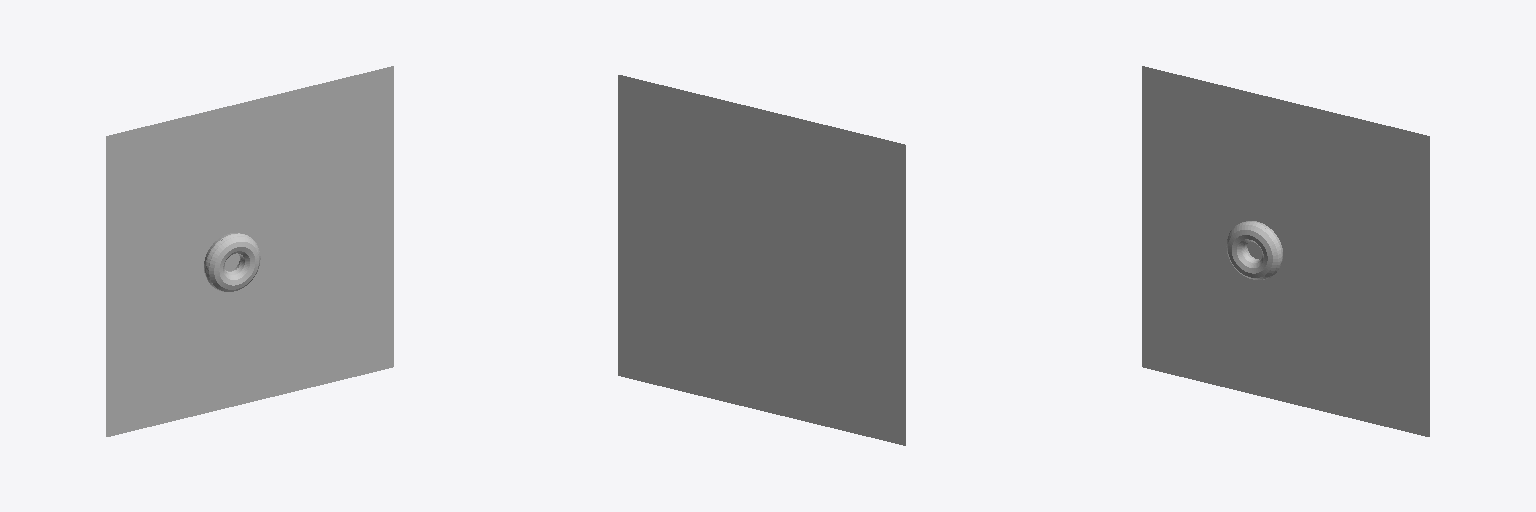
Rendered from DonutWithStoneTextureLowRes.obj.
The picture shows the model from 3 angles: view 1: azimuth 30°, elevation 25°; view 2: azimuth 150°, elevation 25°; view 3: azimuth 330°, elevation 25°; orthographic projection.
Parts seen in each view (by area): view 1: Plane_Plane.001, Torus.001; view 2: Plane_Plane.001; view 3: Plane_Plane.001, Torus.001.
Part boxes in pixels (bbox=[...]): Plane_Plane.001: bbox=[106, 66, 393, 436]; Torus.001: bbox=[204, 233, 260, 291]; Plane_Plane.001: bbox=[618, 75, 905, 445]; Plane_Plane.001: bbox=[1142, 66, 1429, 436]; Torus.001: bbox=[1226, 221, 1282, 279].
Size of the model in its own units: 16 by 16 by 1.13.